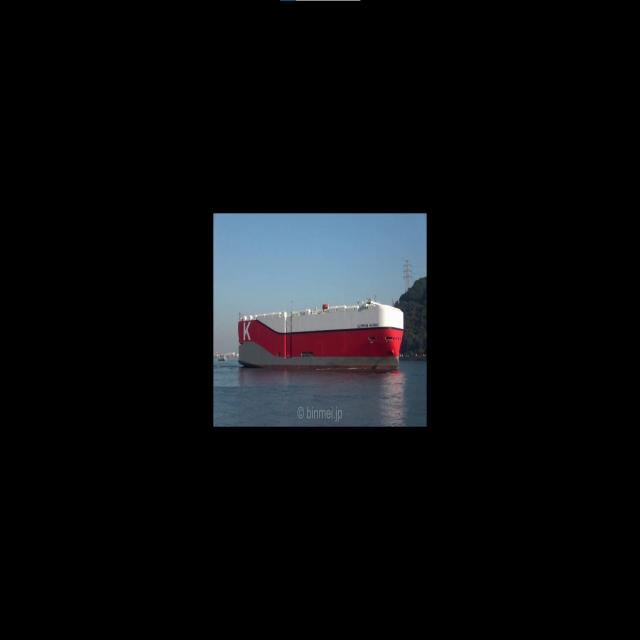ship: (238, 298, 404, 368)
